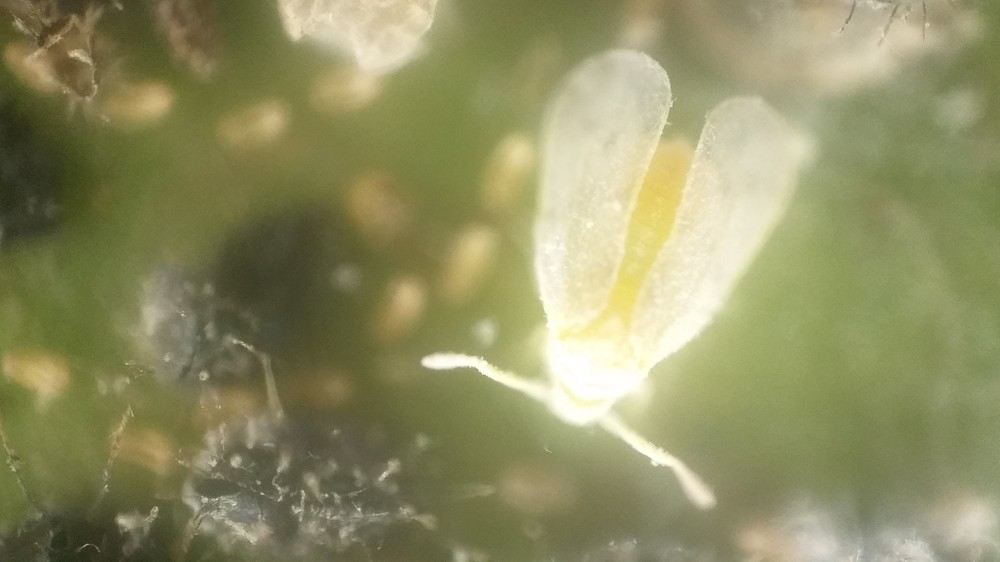Mosca Blanca: (411, 40, 837, 529)
